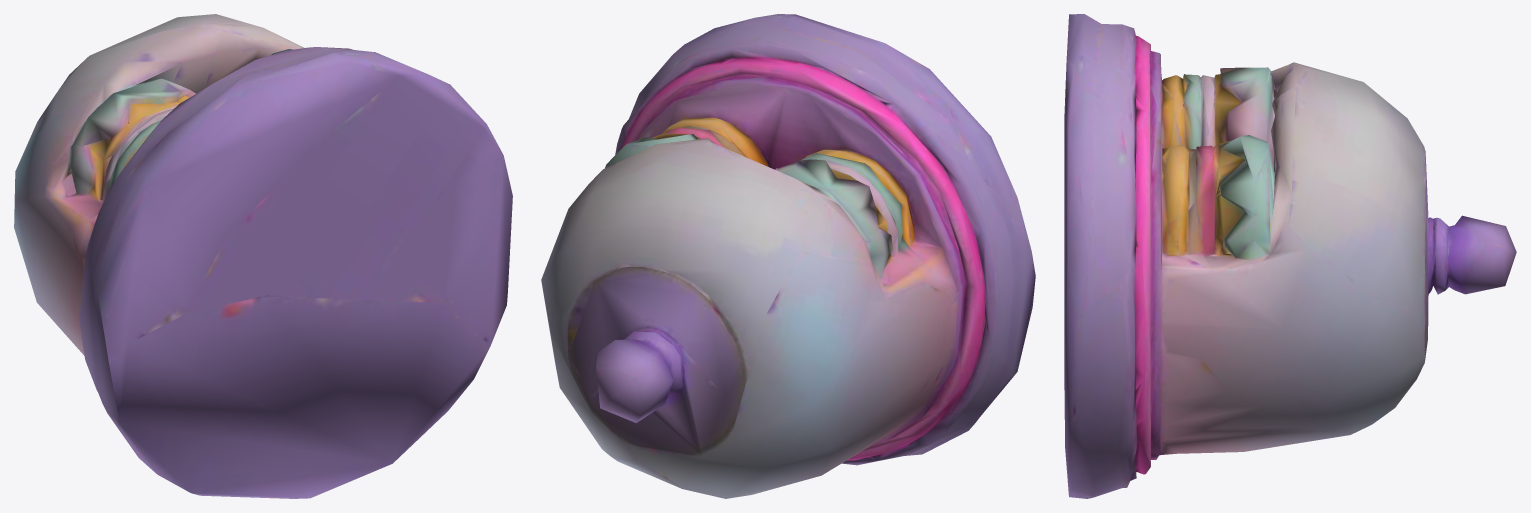
3 renders of one model, left to right at view 1: azimuth 30°, elevation 25°; view 2: azimuth 150°, elevation 25°; view 3: azimuth 270°, elevation 25°, orthographic.
Parts seen in each view (by area): view 1: material; view 2: material; view 3: material.
Part boxes in pixels (x1=…): material: x1=14, y1=14, x2=512, y2=498; material: x1=541, y1=14, x2=1035, y2=498; material: x1=1064, y1=14, x2=1516, y2=498.
Bounding box in the file's own units: 0.9933 × 1 × 0.9359.
Materials: 1 (1 with a texture image).
